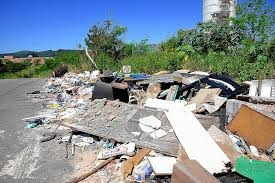rubble: (58, 70, 247, 143)
